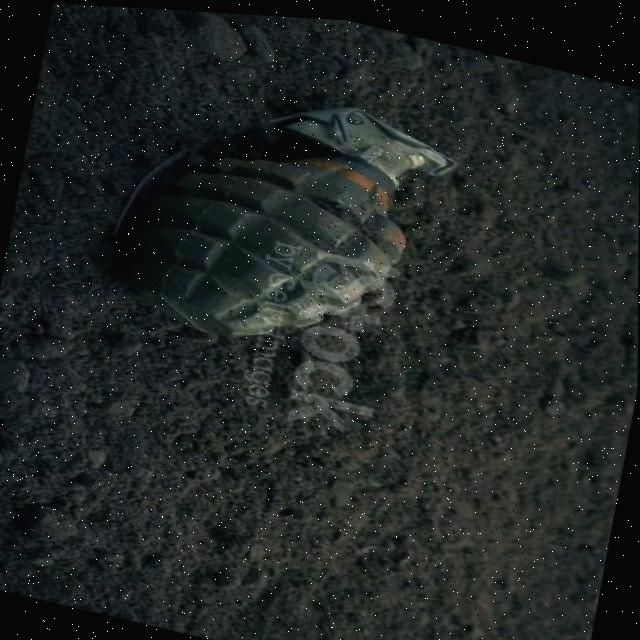grenade: (89, 49, 464, 383)
